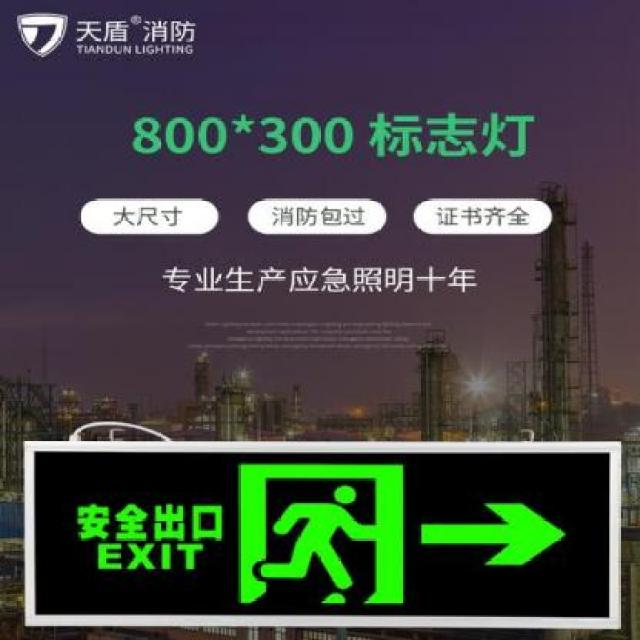exit_sign: (14, 434, 631, 639)
